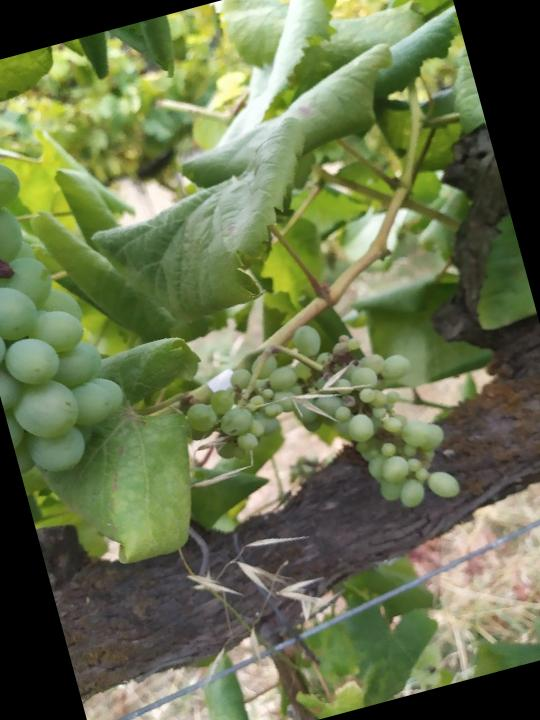grape: (172, 294, 471, 564)
